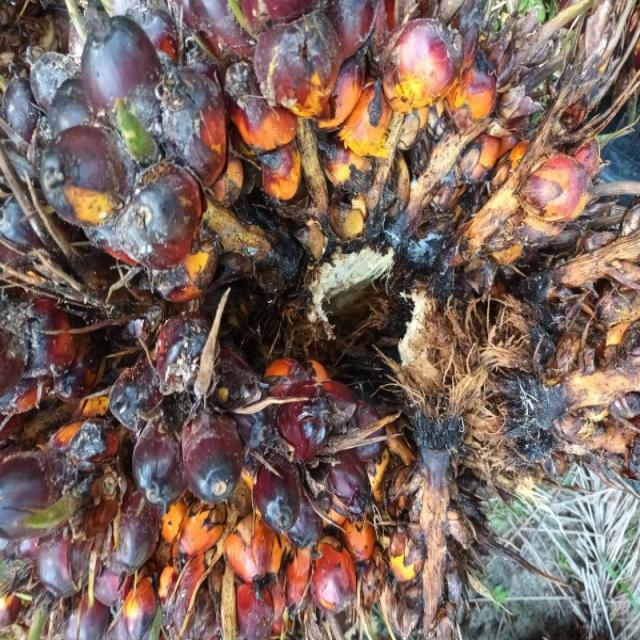fraksi 1: (41, 21, 640, 640)
